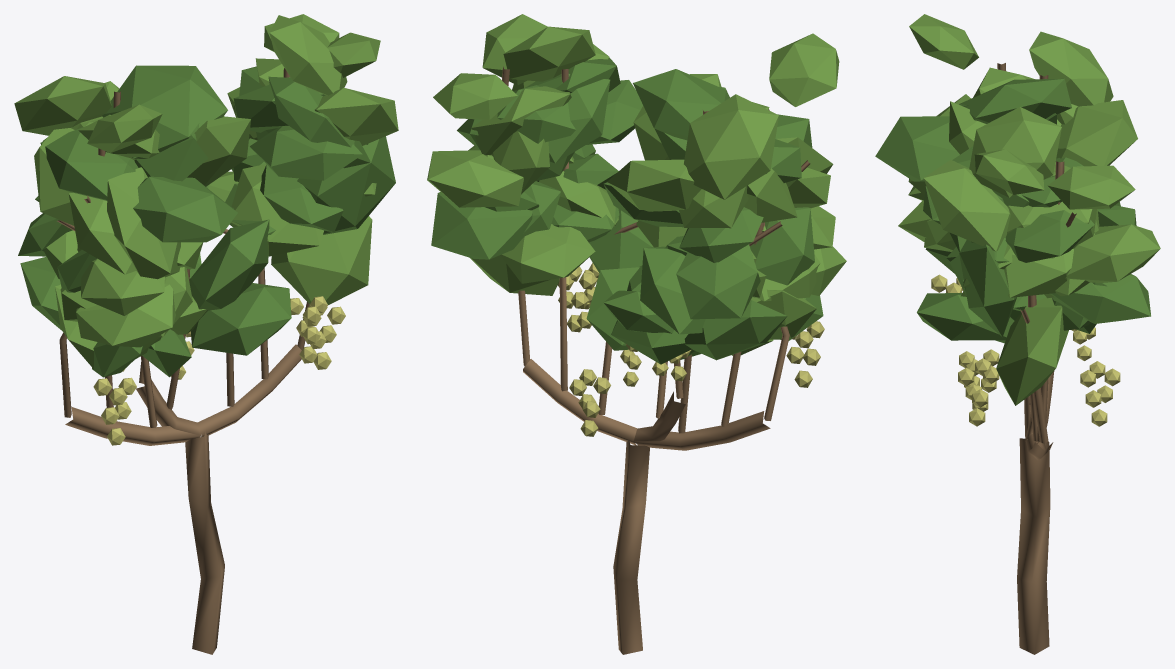
The model's file is szolo-feher.glb.
3 renders of one model, left to right at view 1: azimuth 30°, elevation 25°; view 2: azimuth 150°, elevation 25°; view 3: azimuth 270°, elevation 25°, orthographic. The views are drawn at different scales.
Parts seen in each view (by area): view 1: lomb-szolo-arnyek, lomb-szolo, vesszo-to, termes-szolo, vesszo-kar-1, vesszo-kar-2, vesszo-kar-3, vesszo-1, vesszo-3; view 2: lomb-szolo, lomb-szolo-arnyek, vesszo-to, termes-szolo, vesszo-kar-1, vesszo-kar-2, vesszo-kar-3, vesszo-7, vesszo-3, vesszo-2; view 3: lomb-szolo, lomb-szolo-arnyek, vesszo-to, termes-szolo, vesszo-8.
Boxes of the visible parts, x1=… form: lomb-szolo-arnyek: x1=18, y1=65, x2=395, y2=377; lomb-szolo: x1=14, y1=14, x2=398, y2=368; vesszo-to: x1=185, y1=430, x2=224, y2=654; termes-szolo: x1=93, y1=296, x2=345, y2=445; vesszo-kar-1: x1=65, y1=407, x2=201, y2=445; vesszo-kar-2: x1=197, y1=344, x2=301, y2=436; vesszo-kar-3: x1=136, y1=379, x2=200, y2=435; vesszo-1: x1=113, y1=91, x2=157, y2=427; vesszo-3: x1=59, y1=332, x2=71, y2=417; lomb-szolo: x1=427, y1=14, x2=846, y2=355; lomb-szolo-arnyek: x1=431, y1=57, x2=823, y2=364; vesszo-to: x1=613, y1=440, x2=649, y2=654; termes-szolo: x1=558, y1=262, x2=824, y2=436; vesszo-kar-1: x1=635, y1=411, x2=770, y2=450; vesszo-kar-2: x1=523, y1=359, x2=637, y2=445; vesszo-kar-3: x1=633, y1=391, x2=685, y2=443; vesszo-7: x1=502, y1=66, x2=567, y2=391; vesszo-3: x1=764, y1=222, x2=789, y2=420; vesszo-2: x1=721, y1=109, x2=769, y2=426; lomb-szolo: x1=898, y1=14, x2=1160, y2=405; lomb-szolo-arnyek: x1=875, y1=78, x2=1150, y2=343; vesszo-to: x1=1017, y1=438, x2=1050, y2=654; termes-szolo: x1=931, y1=274, x2=1120, y2=426; vesszo-8: x1=1028, y1=295, x2=1048, y2=443.
Bounding box in the file's own units: 1 × 1.76 × 0.7997.
